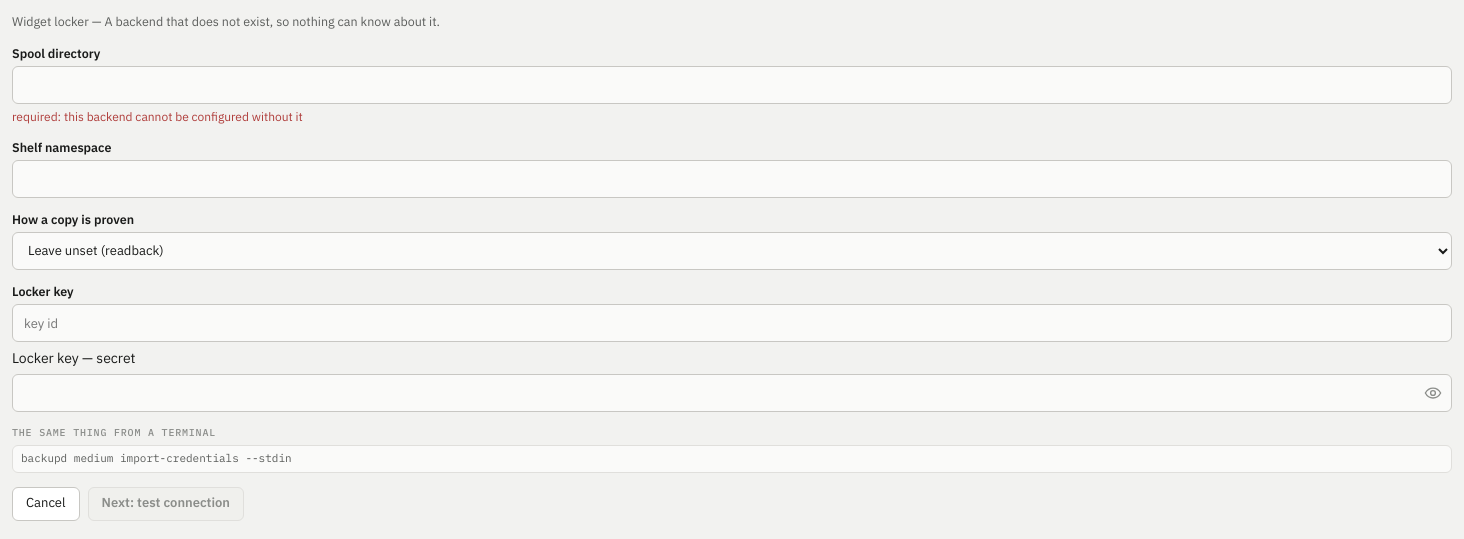
the check › writes nothing on a refusal, and says so in the manager's own words
The width and height of the screenshot is (1464, 539).
Expected: the element with test id "manifest-field-row-path" is shown, [12,44,1452,126]
Type "/mnt/lockers" into the field with test id "manifest-field-control" showing "Spool directory" at (732, 85), box [12,66,1452,104]
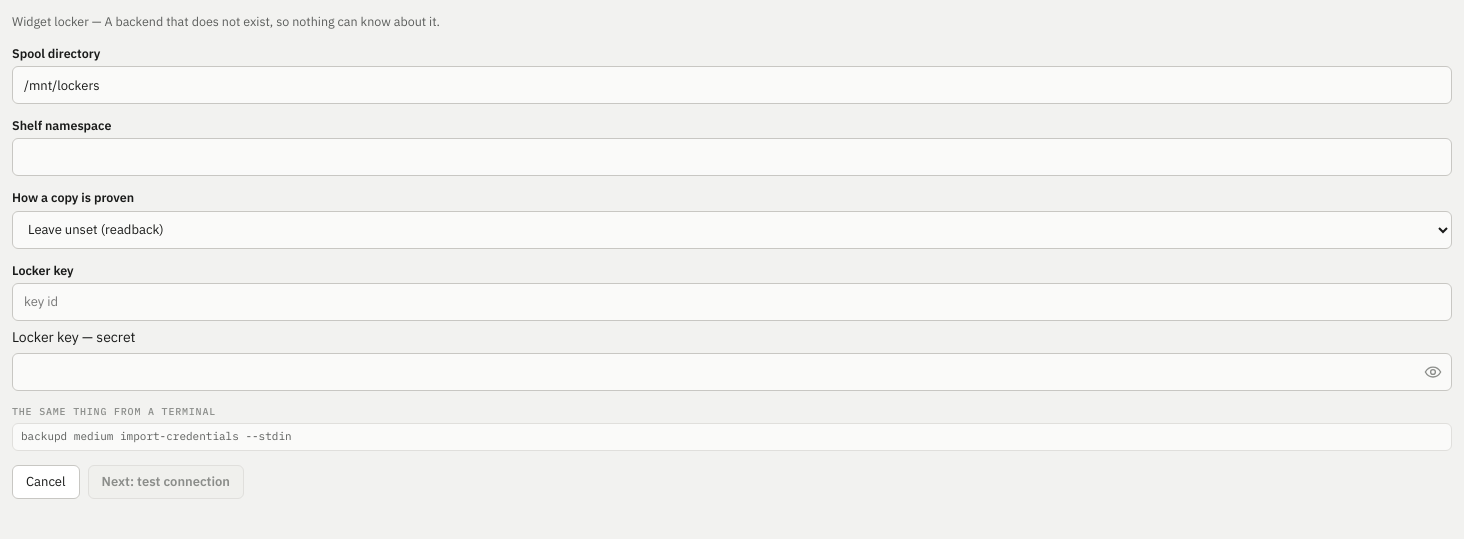
Type "widgets/2026" into the field labelled "Shelf namespace" at (732, 157), box [12,138,1452,176]
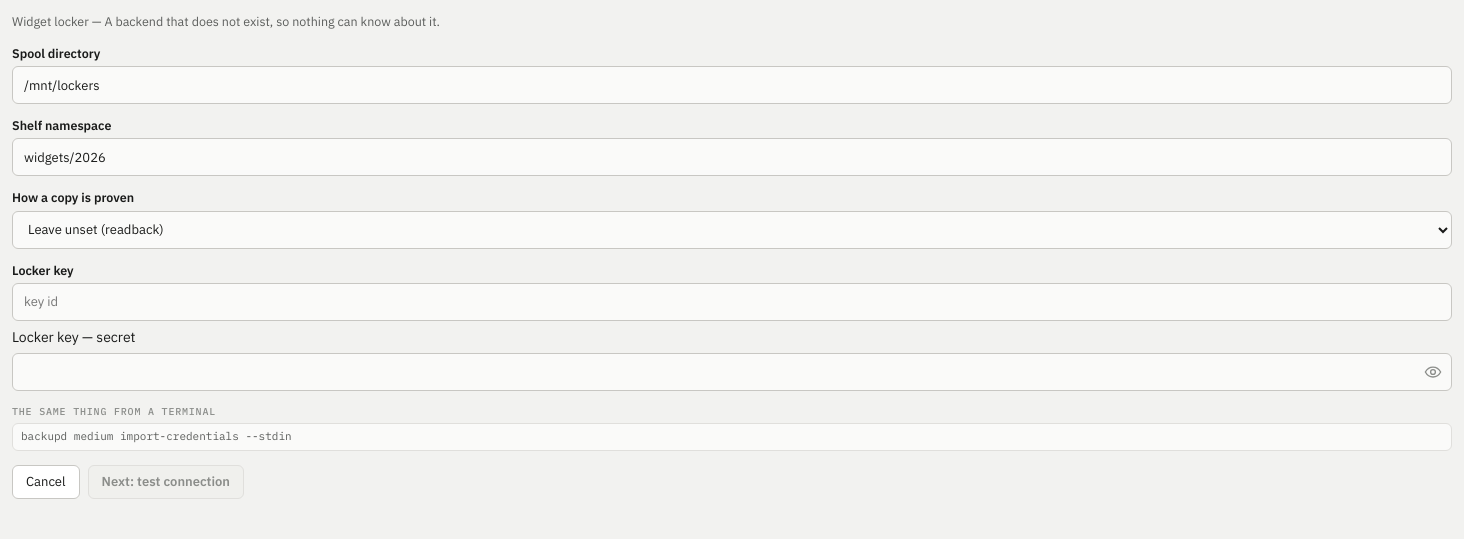
Type "EXAMPLE-NOT-A-REAL-KEY" into the field labelled "Locker key" at (732, 302), box [12,283,1452,321]
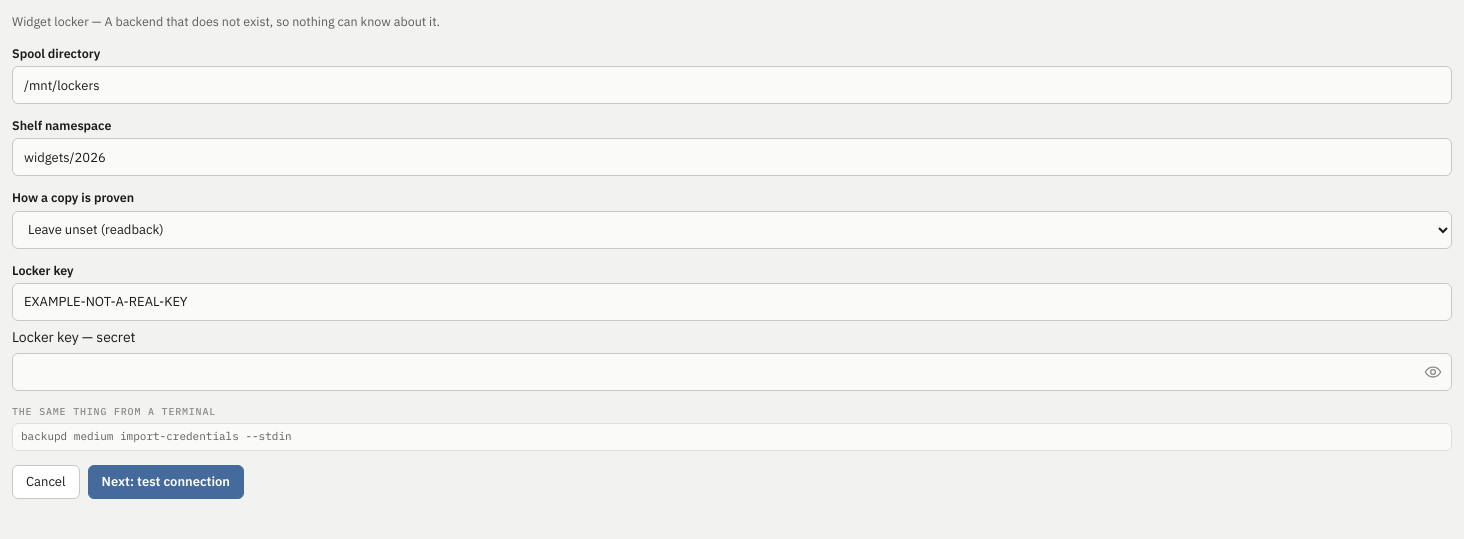
Type "CANARY-669-configure-8b21f0ac-DO-NOT-SEND" into the password field labelled "Locker key — secret" at (732, 372), box [12,353,1452,391]
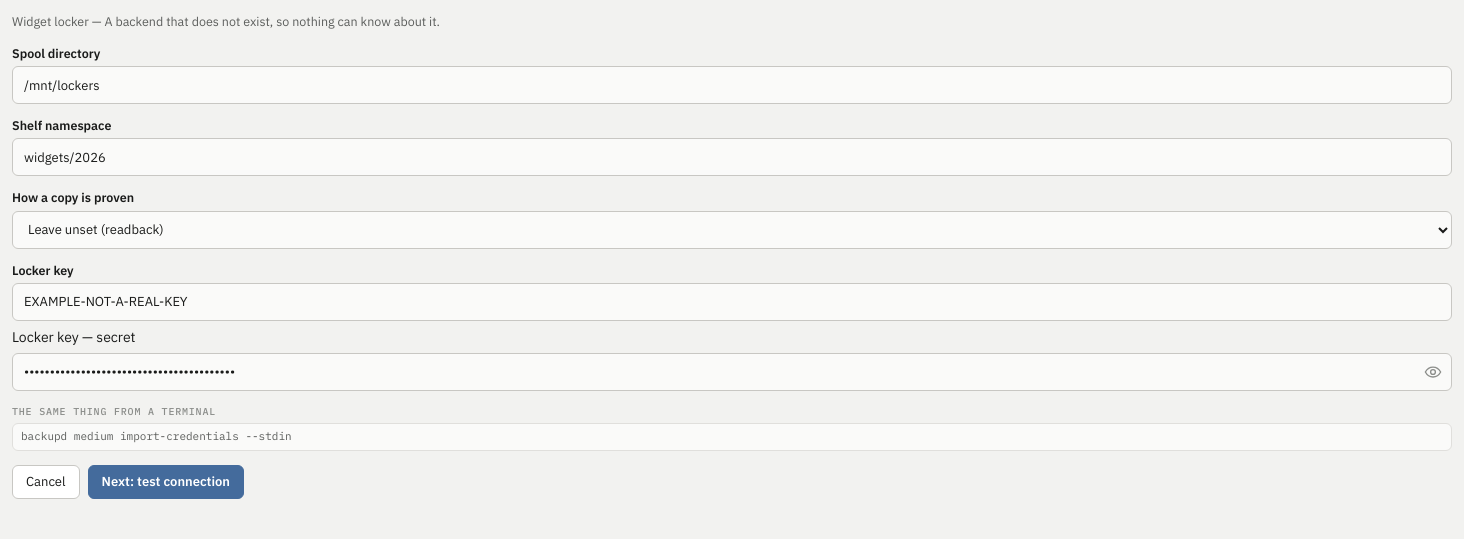
Expected: the button "Next: test connection" is enabled
Click the button "Next: test connection" at (166, 482), box [88,465,244,499]
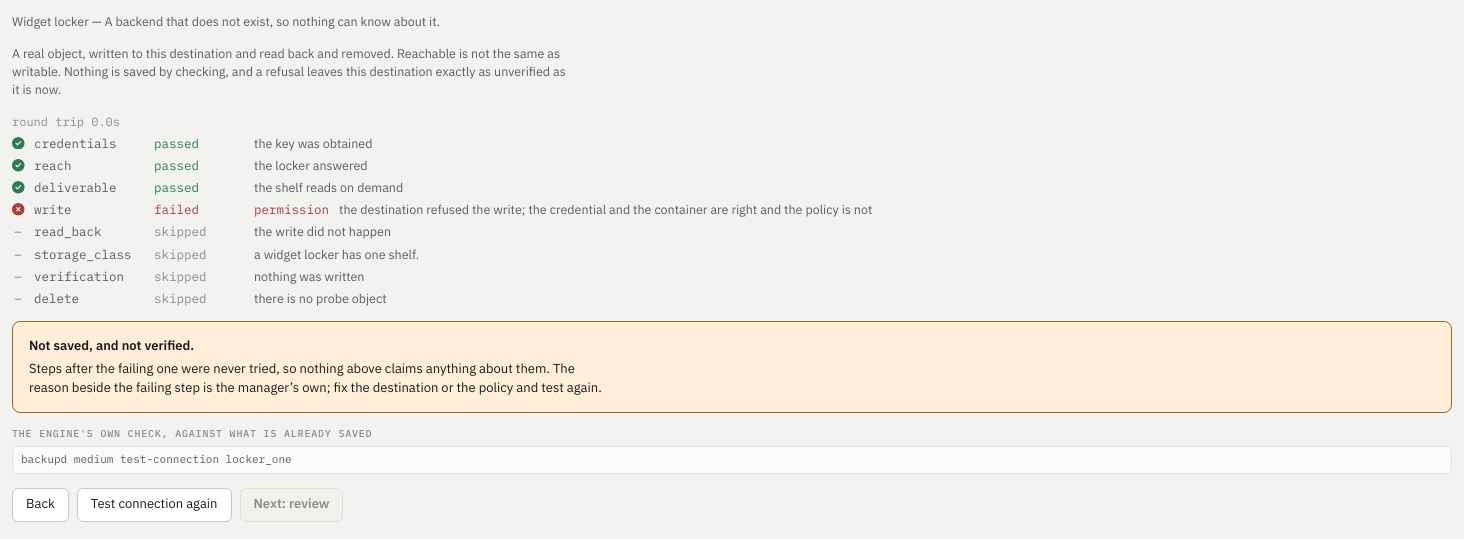
Expected: the text with test id "probe-step-outcome" reads "failed", [154,201,199,217]
Expected: the text with test id "probe-step-detail" shows "the destination refused the write; the credential and the container are right and the policy is not", [339,201,872,217]
Expected: the button "Next: review" is disabled, [240,488,344,522]
